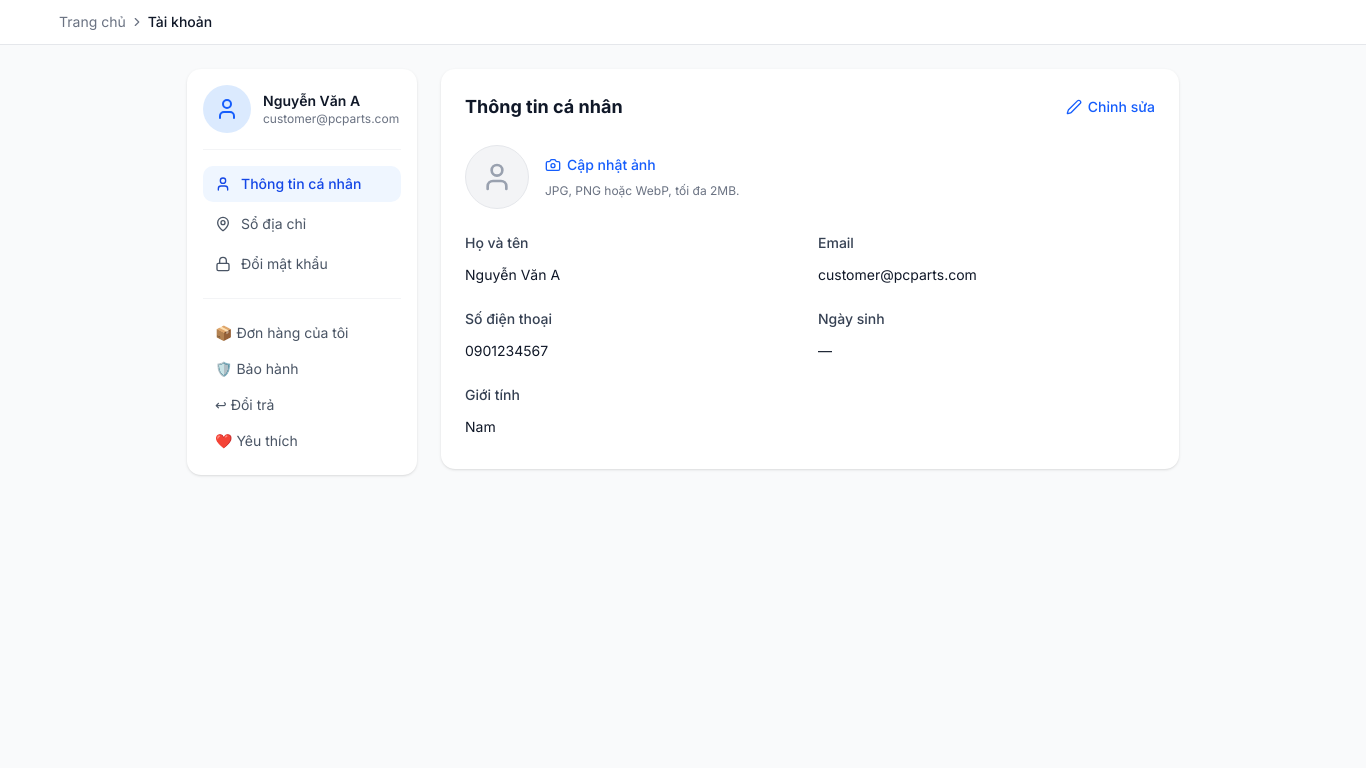
Scenario: ProfilePage › rejects invalid phone before sending profile update
Click the button "Chỉnh sửa": (1110, 107) [1066,97,1155,117]
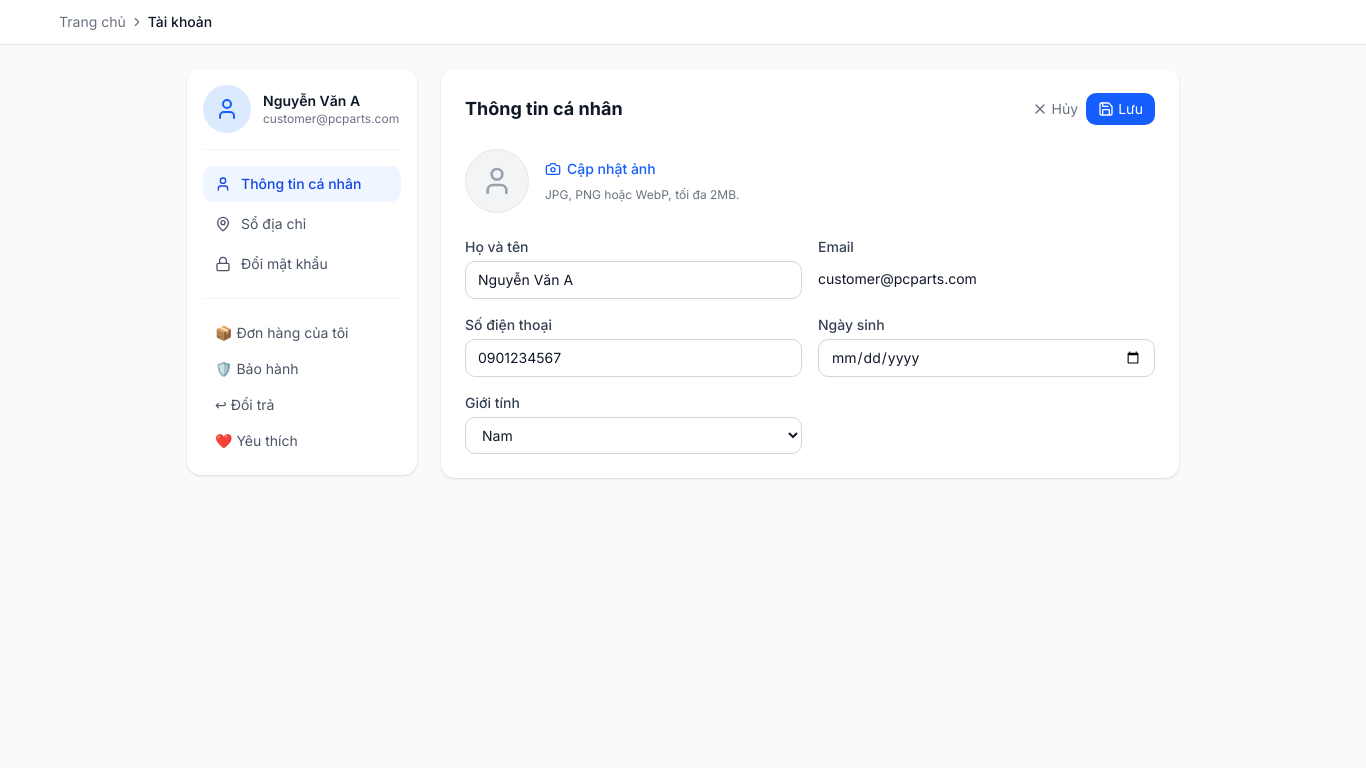
Replace the text in the field labelled "Số điện thoại" with "123": (634, 358) [465,339,802,377]
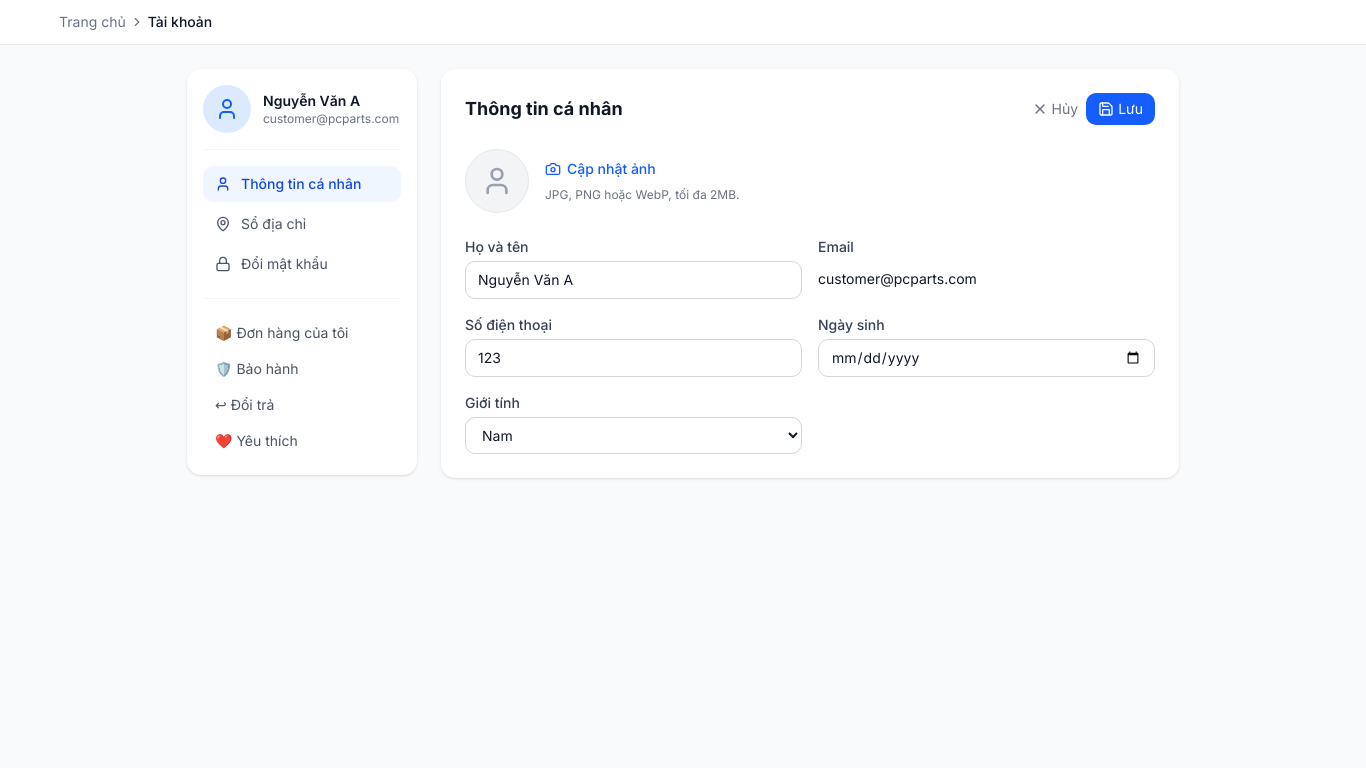
Click the button "Lưu": (1121, 109) [1086,93,1155,125]
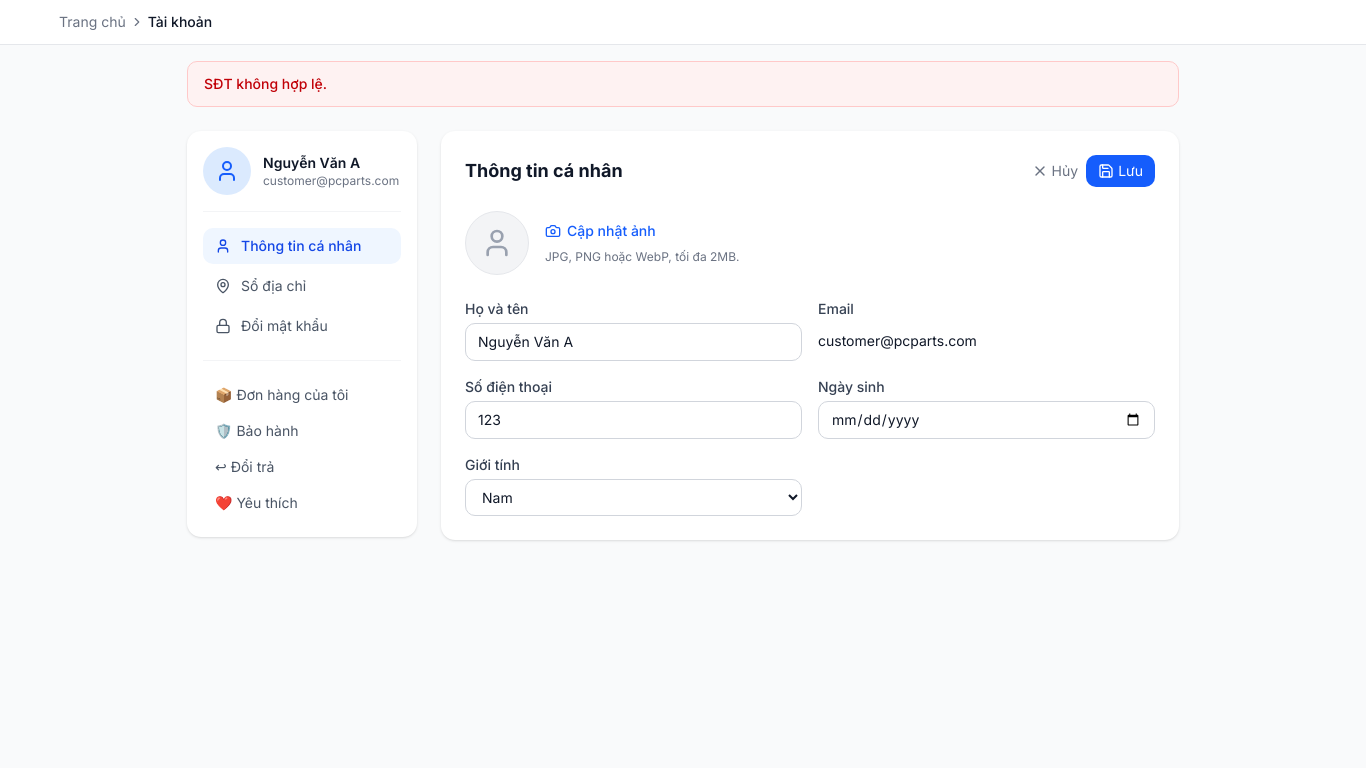
Expected: the text "SĐT không hợp lệ." is shown, [187,61,1179,107]
